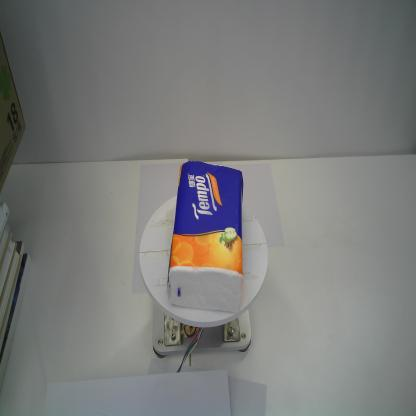Tissue: (167, 160, 244, 312)
